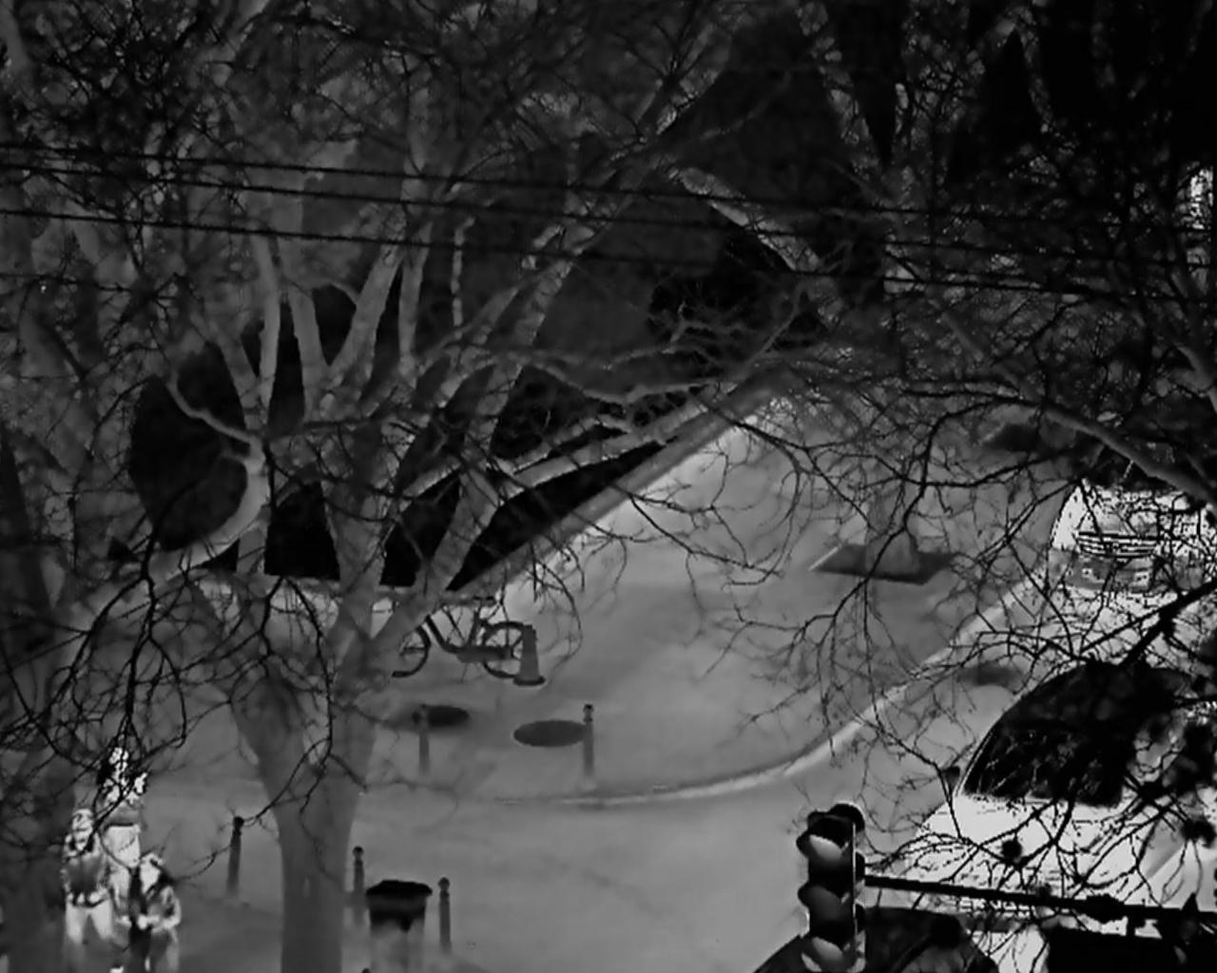person: (64, 810, 116, 969), (91, 746, 145, 868), (128, 852, 182, 973)
